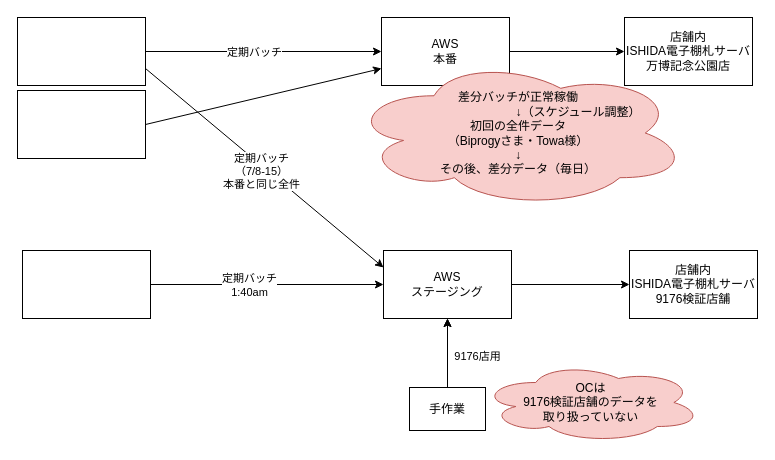
The diagram is 775 pixels wide and 460 high, and some of its shapes have lost their labels. The centre of each missing label's shape, as x and y in pixels:
"OC 本番" goes at point (81, 51).
"中継サーバ 本番" goes at point (81, 124).
"中継サーバ 開発 ※本番と同じサーバ" goes at point (86, 284).
